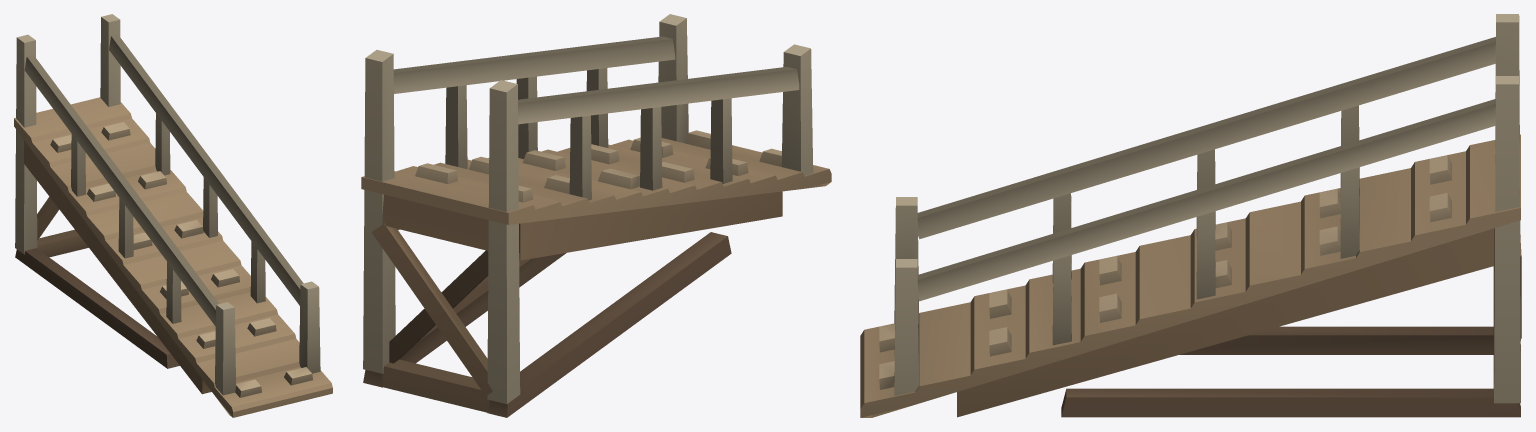
File: gangplank.glb
The picture shows the model from 3 angles, left to right: view 1: azimuth 30°, elevation 25°; view 2: azimuth 150°, elevation 25°; view 3: azimuth 270°, elevation 25°; orthographic projection. The views are drawn at different scales.
Visible parts, largest first — view 1: gangplank.001; view 2: gangplank.001; view 3: gangplank.001.
Part boxes in pixels (left/top/right/bottom): gangplank.001: left=14, top=14, right=332, bottom=417; gangplank.001: left=361, top=14, right=831, bottom=417; gangplank.001: left=860, top=14, right=1521, bottom=417.
Size of the model in its own units: 0.9 by 1.9 by 3.42.
